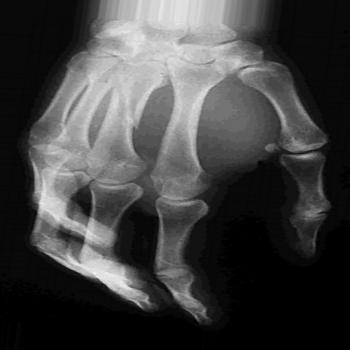Fracture: (110, 88, 151, 136)
